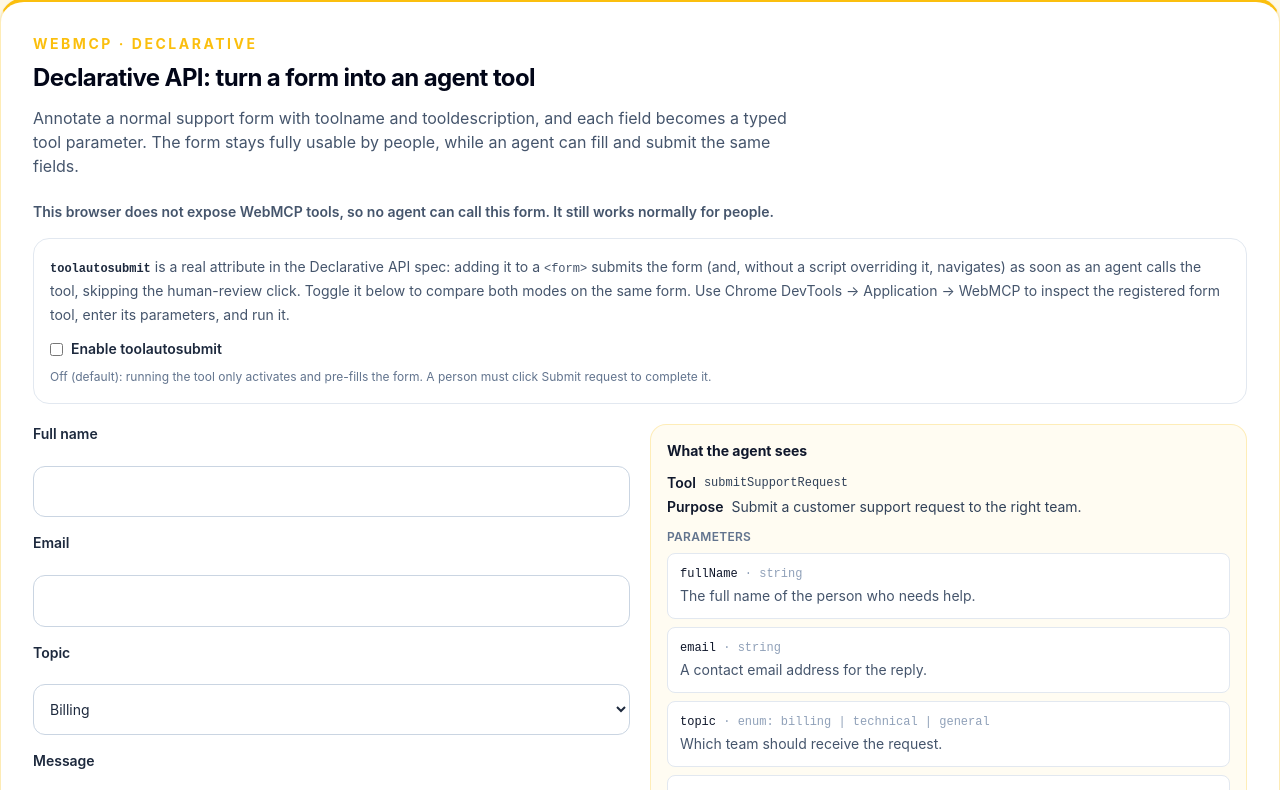
WebmcpDeclarativeDemo › keeps the form usable for people without an agent
Step 1. Type "Ada Lovelace" into the field labelled "Full name" → {"x": 332, "y": 492}, box [33, 466, 630, 517]
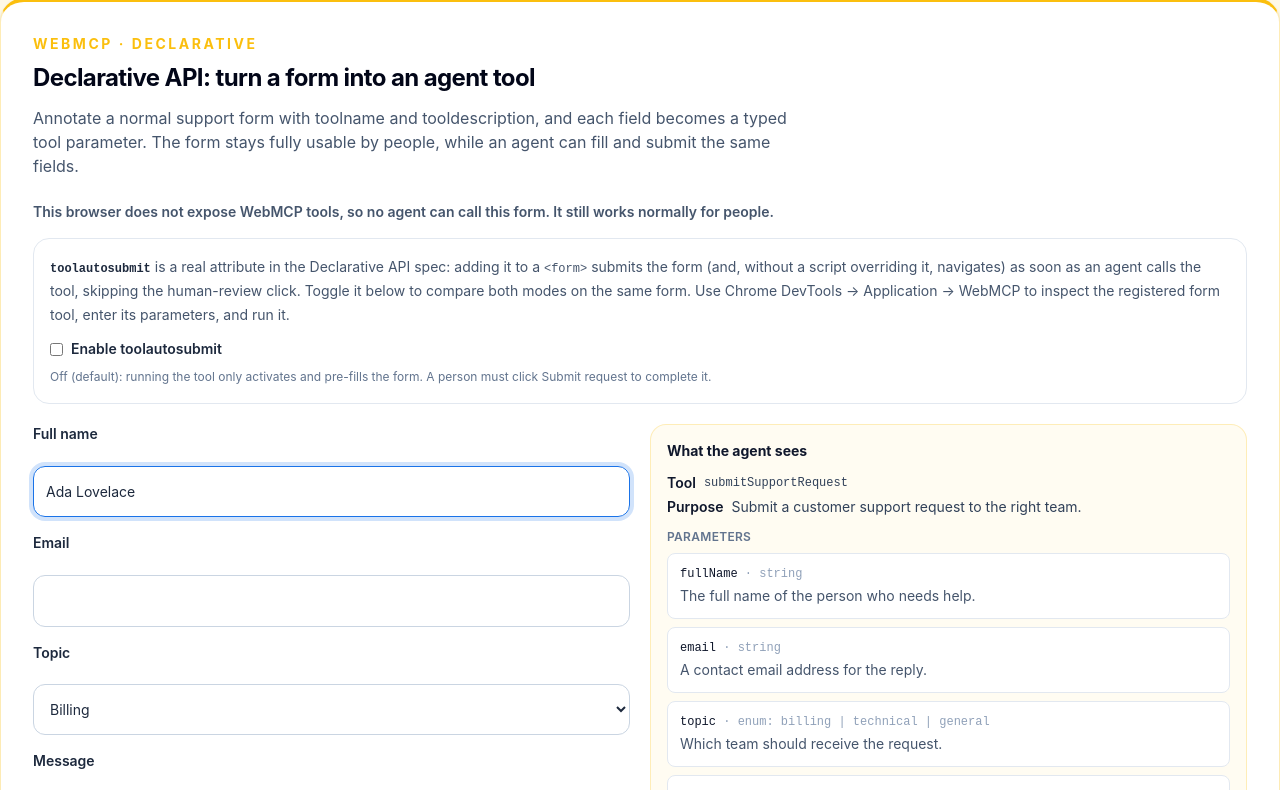
Step 2. Type "ada@example.com" into the field labelled "Email" → {"x": 332, "y": 601}, box [33, 575, 630, 627]
(page scrolled)
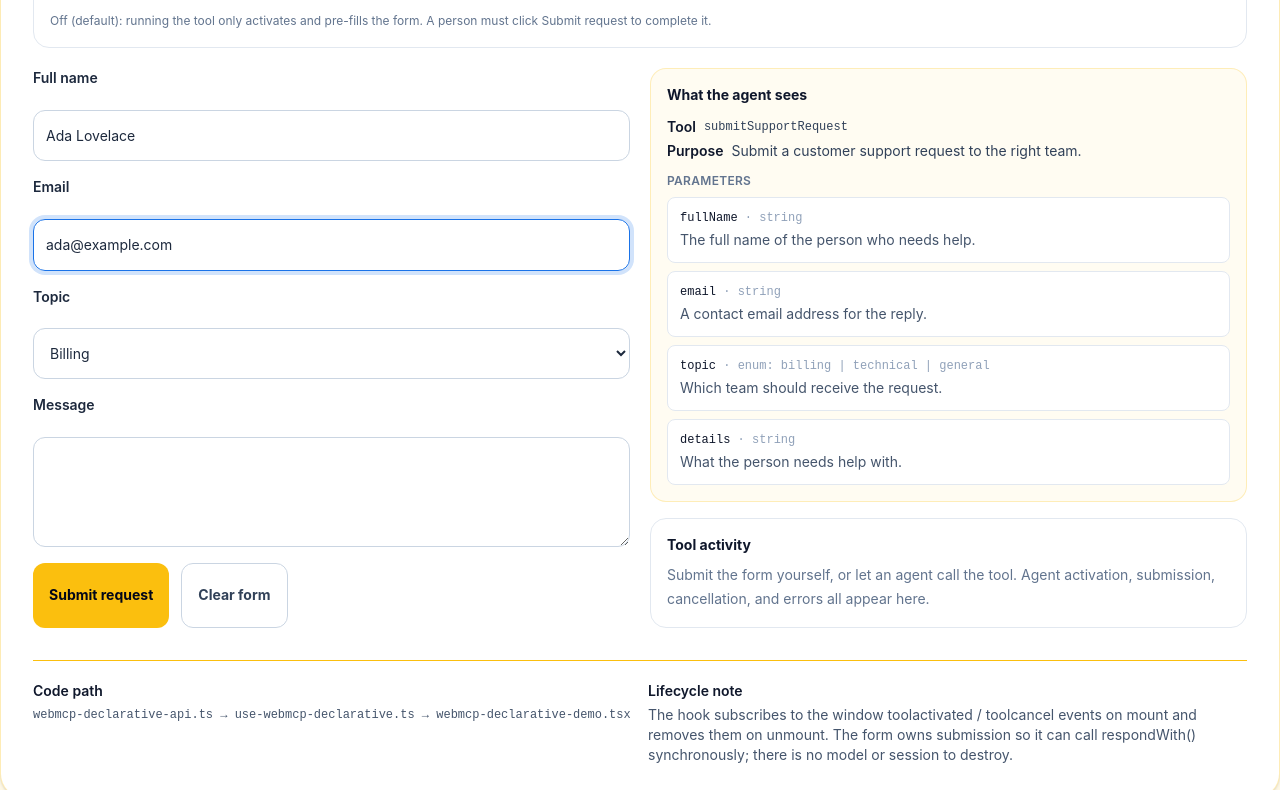
Step 3. Type "I need help with billing." into the text box labelled "Message" → {"x": 332, "y": 492}, box [33, 437, 630, 547]
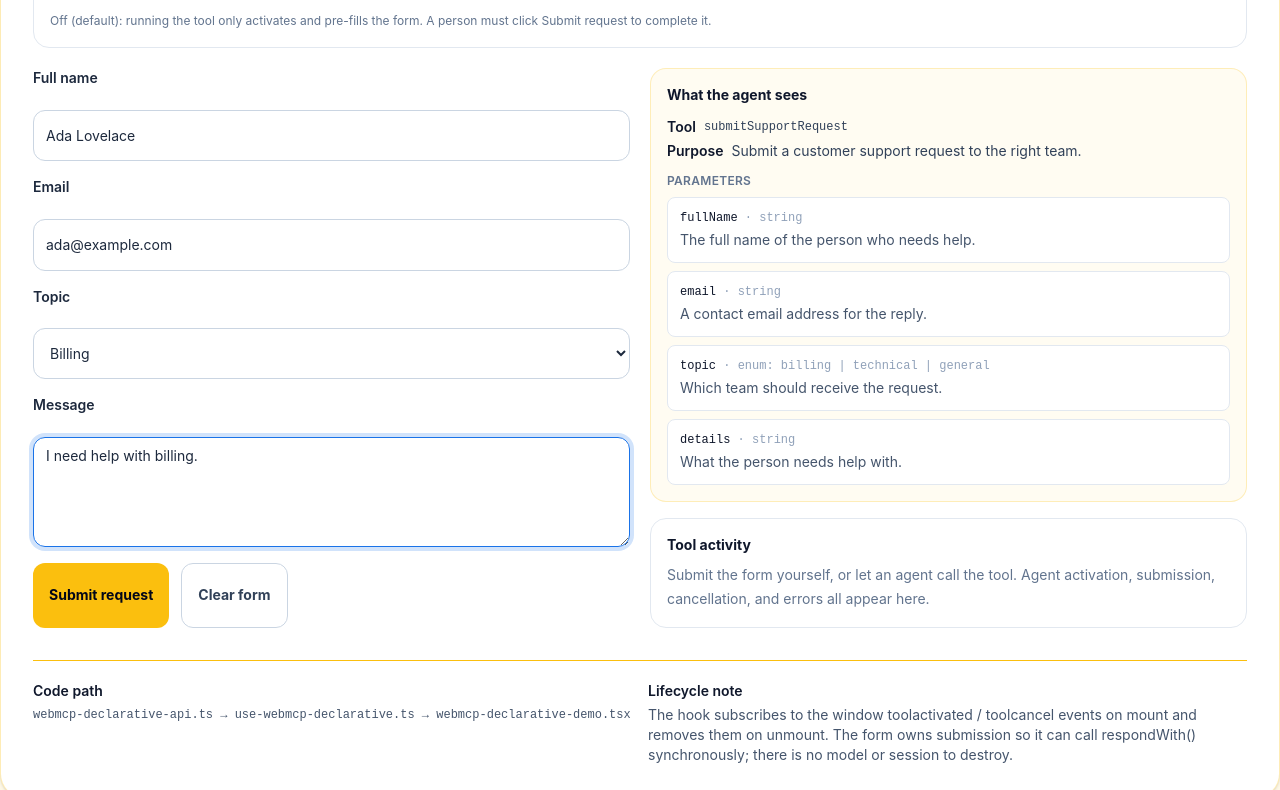
Step 4. Click the button "Submit request" → {"x": 101, "y": 595}, box [33, 563, 169, 628]
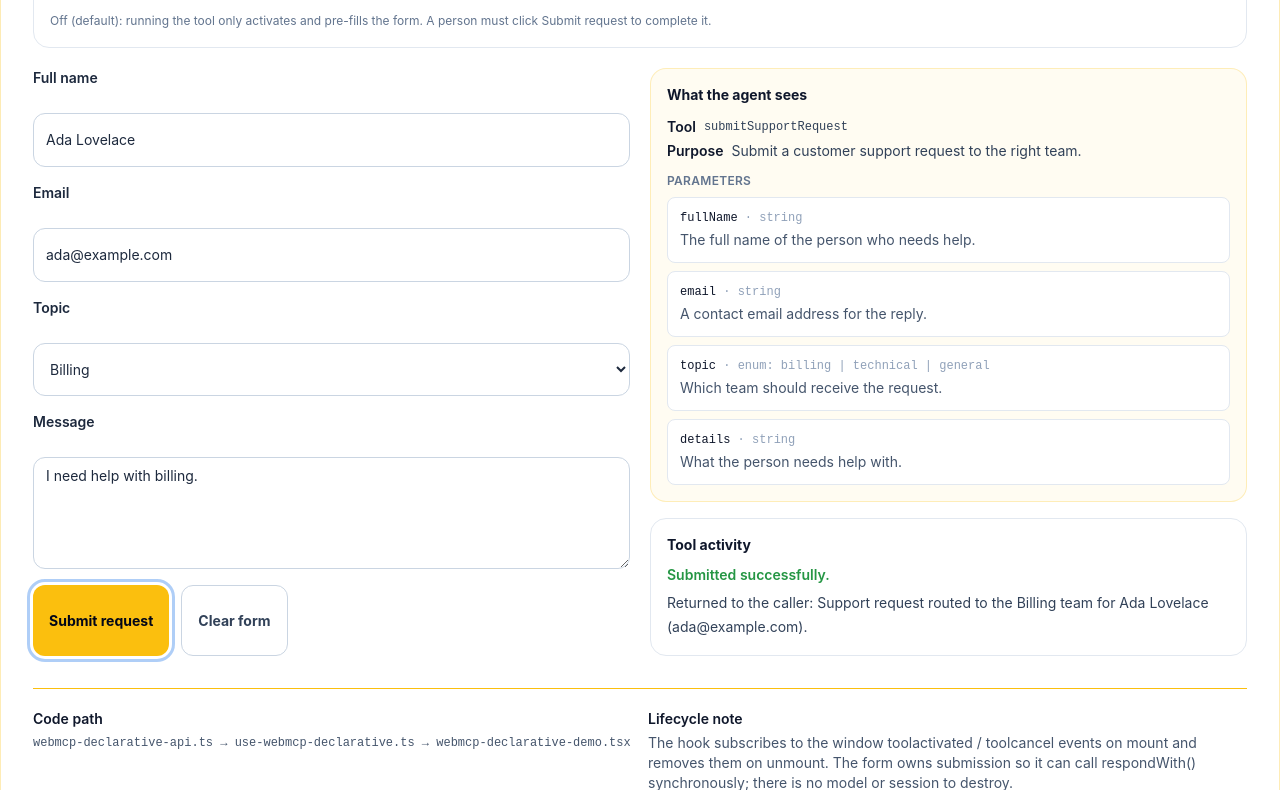
expect the text "Submitted successfully." is shown: met, box [667, 566, 830, 583]
expect the text "Support request routed to the Billing team for Ada Lovelace" is shown: met, box [667, 594, 1209, 635]
